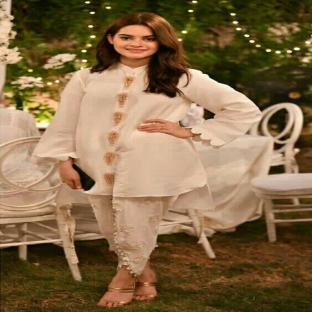Human: (33, 12, 260, 307)
